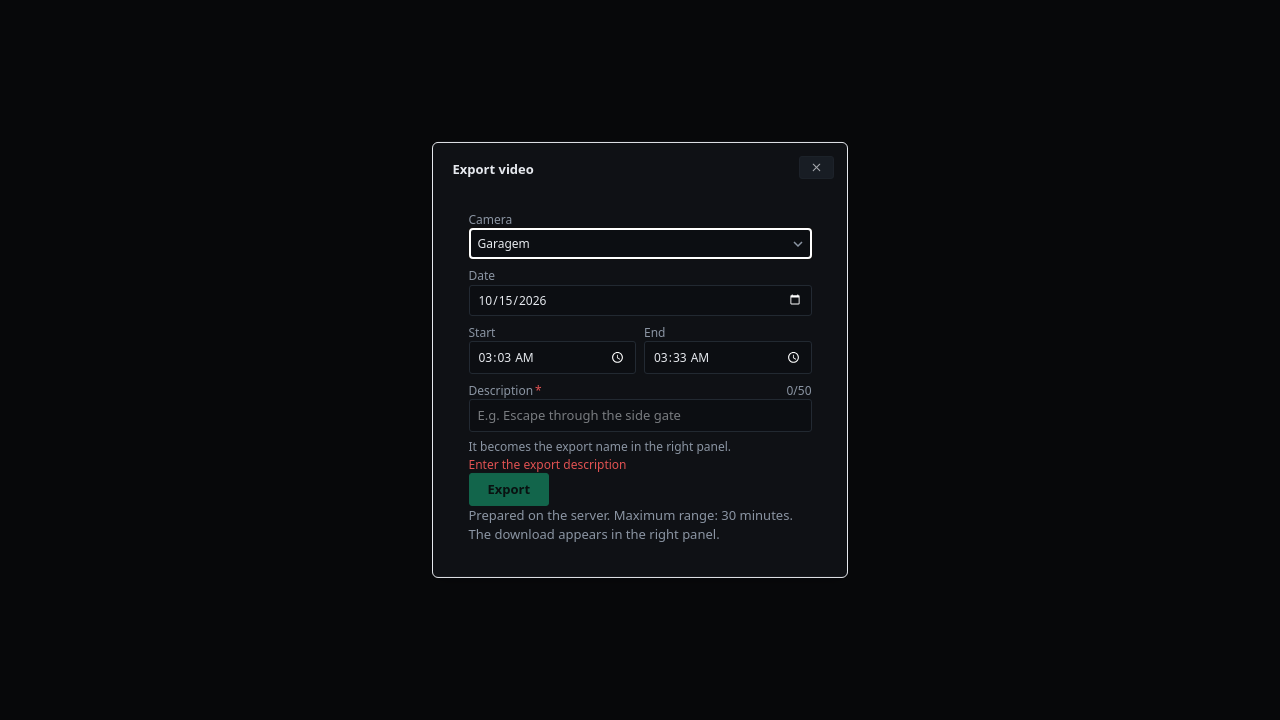
ExportDialog › NAO avisa o pai quando o POST falha
The image size is (1280, 720).
Type "Fuga" into the field labelled "Description". click: (640, 416)
box: [468,399,812,432]
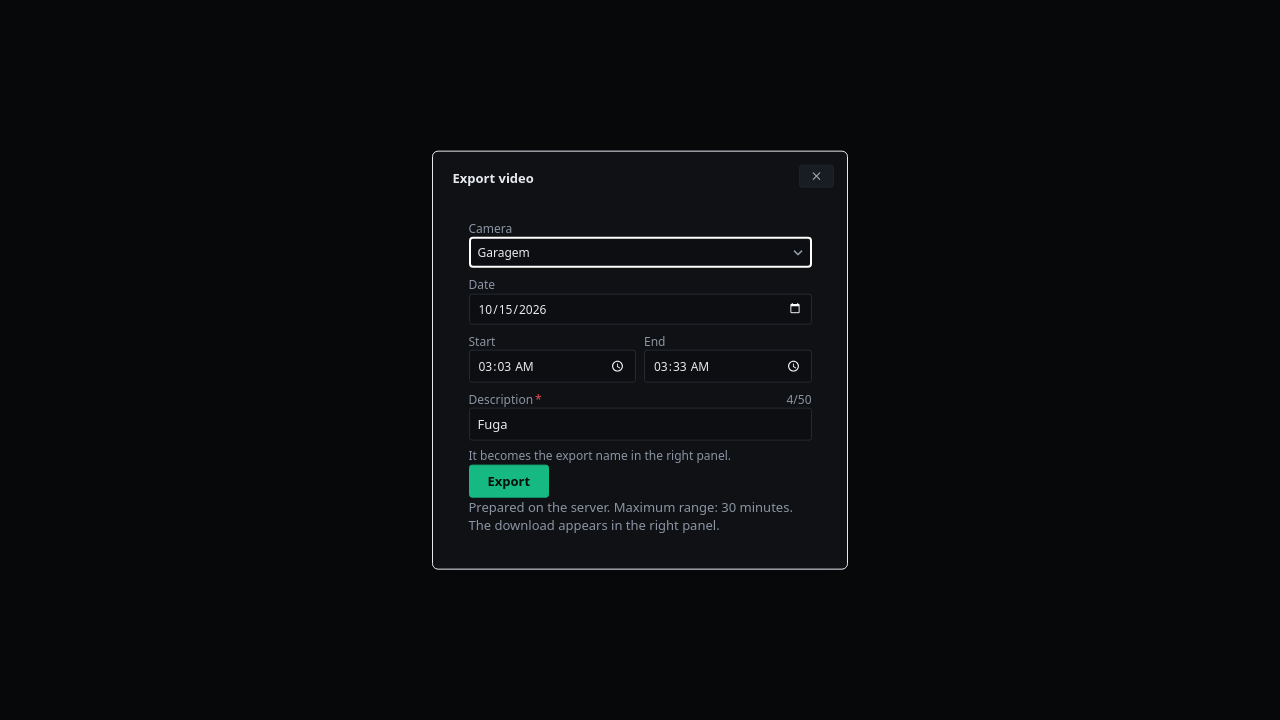
Click the button "Export". click: (509, 481)
box: [468,464,549,497]
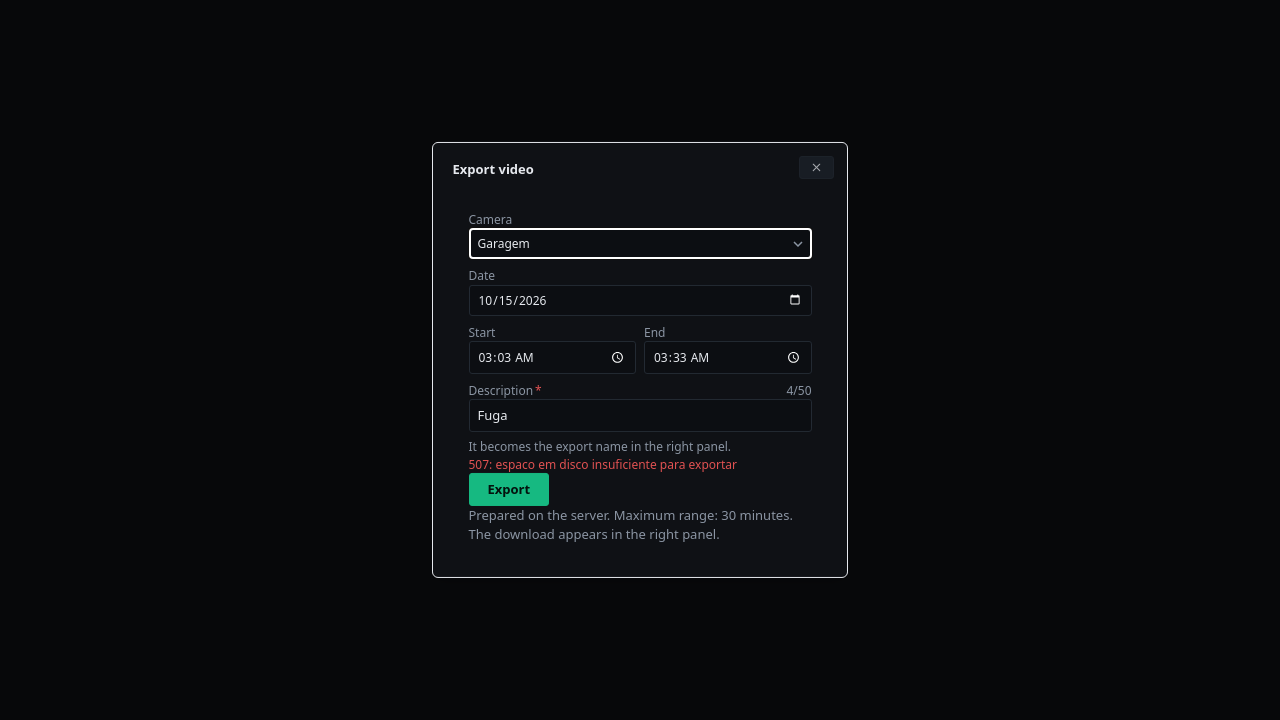
Expected: the text "507: espaco em disco insuficiente para exportar" is shown, [468,456,737,473]
